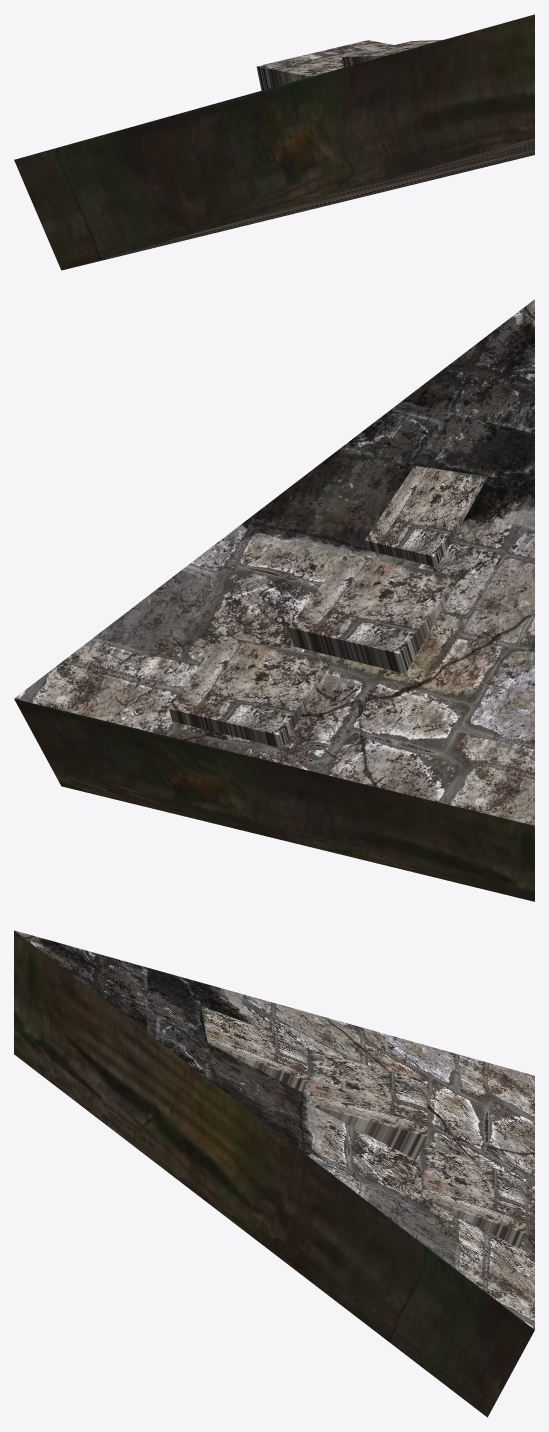
The picture shows the model from 3 angles, top to bottom: view 1: azimuth 30°, elevation 25°; view 2: azimuth 150°, elevation 25°; view 3: azimuth 270°, elevation 25°; orthographic projection.
Visible parts, largest first — view 1: SM_BB_T3_Roof_Triangle_Shallow_Med_Inverted_LOD0; view 2: SM_BB_T3_Roof_Triangle_Shallow_Med_Inverted_LOD0; view 3: SM_BB_T3_Roof_Triangle_Shallow_Med_Inverted_LOD0.
Part boxes in pixels (box(x1,y1,x2,y2)): SM_BB_T3_Roof_Triangle_Shallow_Med_Inverted_LOD0: box(14, 14, 534, 270); SM_BB_T3_Roof_Triangle_Shallow_Med_Inverted_LOD0: box(14, 299, 534, 901); SM_BB_T3_Roof_Triangle_Shallow_Med_Inverted_LOD0: box(14, 930, 534, 1417).
Size of the model in its own units: 1.65 by 1.12 by 1.43.
Materials: 3 (3 with a texture image).
